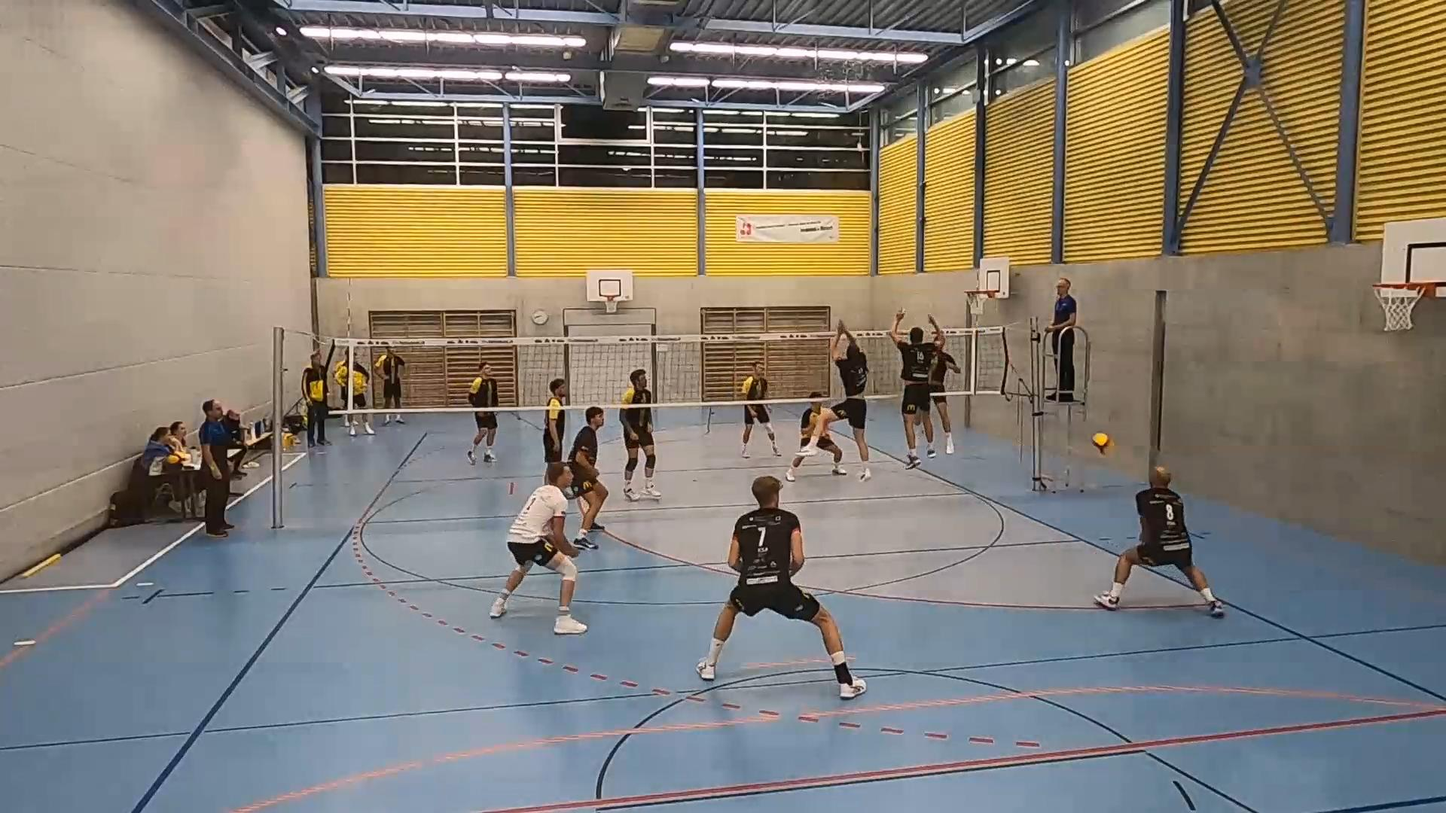attacco: (915, 330, 958, 463)
difesa: (1091, 465, 1224, 615)
muro: (804, 315, 874, 485), (883, 307, 943, 472)
